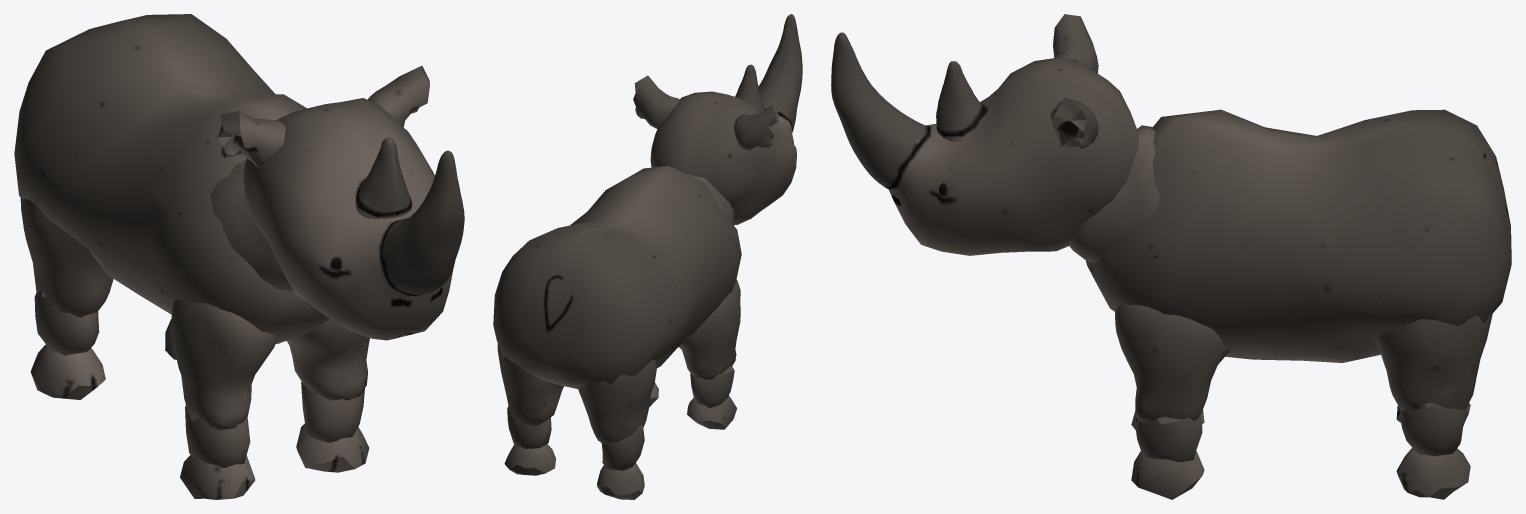
The model's file is rhino.FBX.
3 renders of one model, left to right at view 1: azimuth 30°, elevation 25°; view 2: azimuth 150°, elevation 25°; view 3: azimuth 270°, elevation 25°, orthographic. The views are drawn at different scales.
Parts seen in each view (by area): view 1: rhino; view 2: rhino; view 3: rhino.
Boxes of the visible parts, x1,y1,x2,y2 form: rhino: [14, 14, 464, 499]; rhino: [493, 14, 802, 499]; rhino: [831, 14, 1511, 499].
Size of the model in its own units: 2.59 by 4.87 by 6.95.
Materials: 1 (1 with a texture image).
